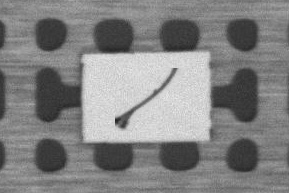DIE_INK: (113, 66, 176, 129)
